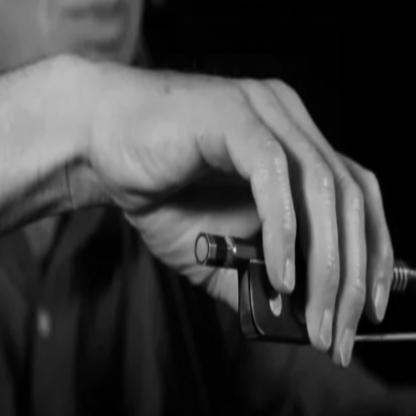good: (210, 45, 400, 366)
